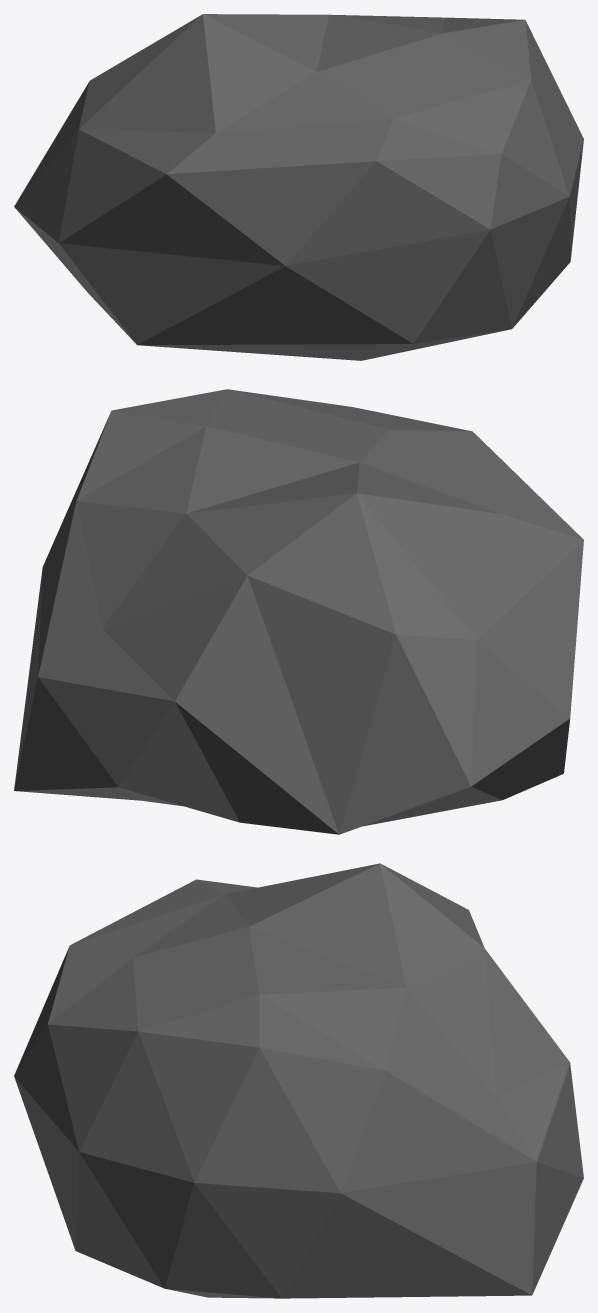
The model's file is SM_Rock_01.fbx.
The picture shows the model from 3 angles, top to bottom: view 1: azimuth 30°, elevation 25°; view 2: azimuth 150°, elevation 25°; view 3: azimuth 270°, elevation 25°; orthographic projection. The views are drawn at different scales.
Parts seen in each view (by area): view 1: Rock_01; view 2: Rock_01; view 3: Rock_01.
Boxes of the visible parts, <box> form: Rock_01: <box>14,14,583,360</box>; Rock_01: <box>14,389,583,834</box>; Rock_01: <box>14,863,583,1298</box>.
Size of the model in its own units: 2.56 by 1.58 by 2.41.
